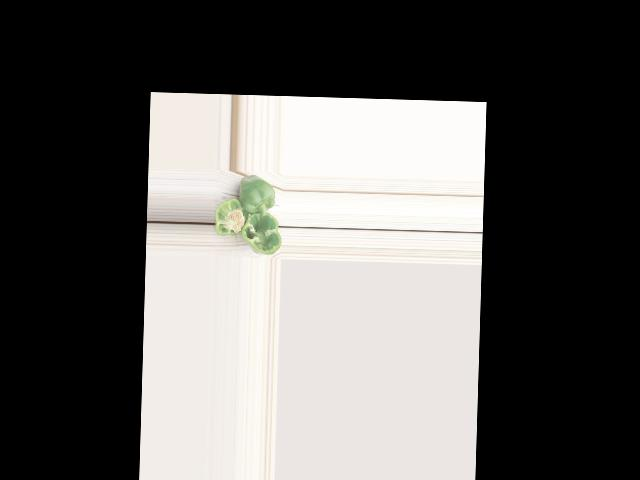bell_pepper: (214, 195, 248, 244)
